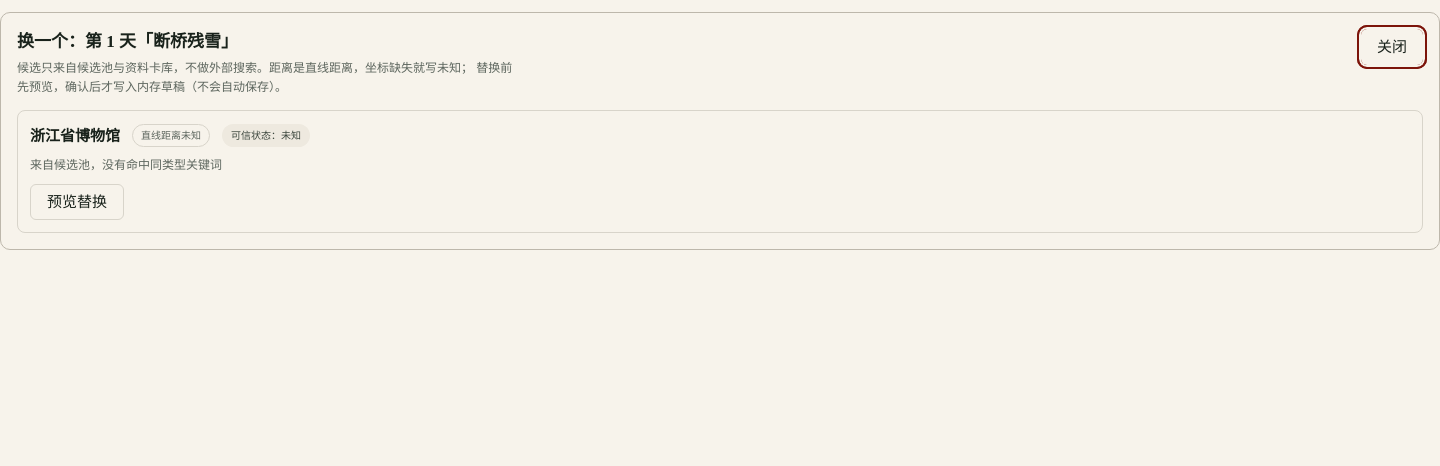
Test: StopSwapPanel › 取消预览不改动草稿
Click the button "预览替换": (77, 202) 30,184 -> 124,220
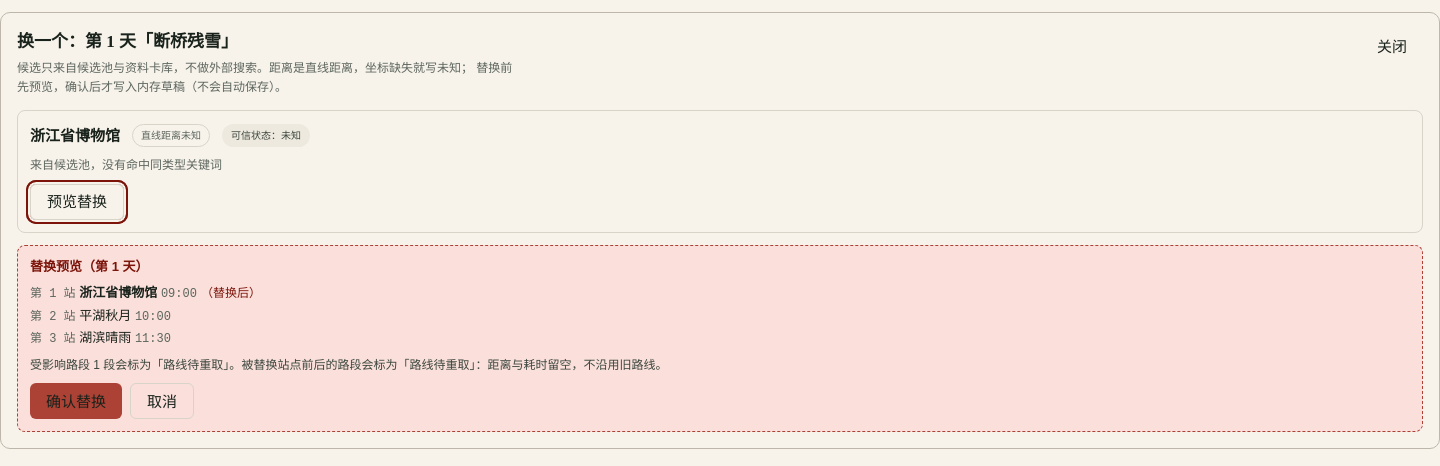
Click the button "取消": (162, 401) 130,383 -> 194,419
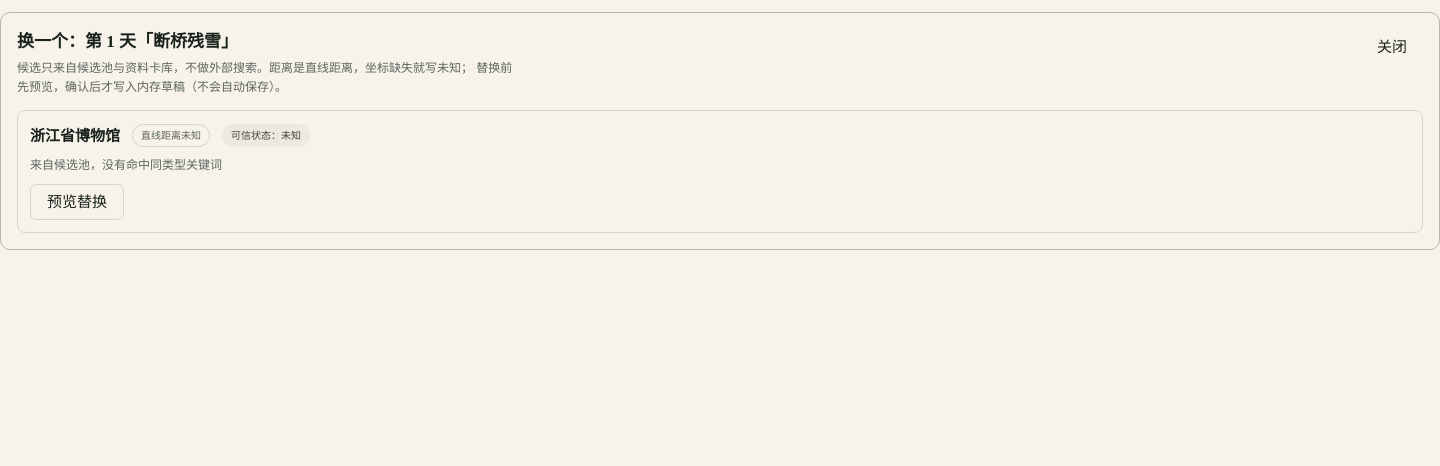
Expected: the element with test id "stop-swap-preview" is gone
